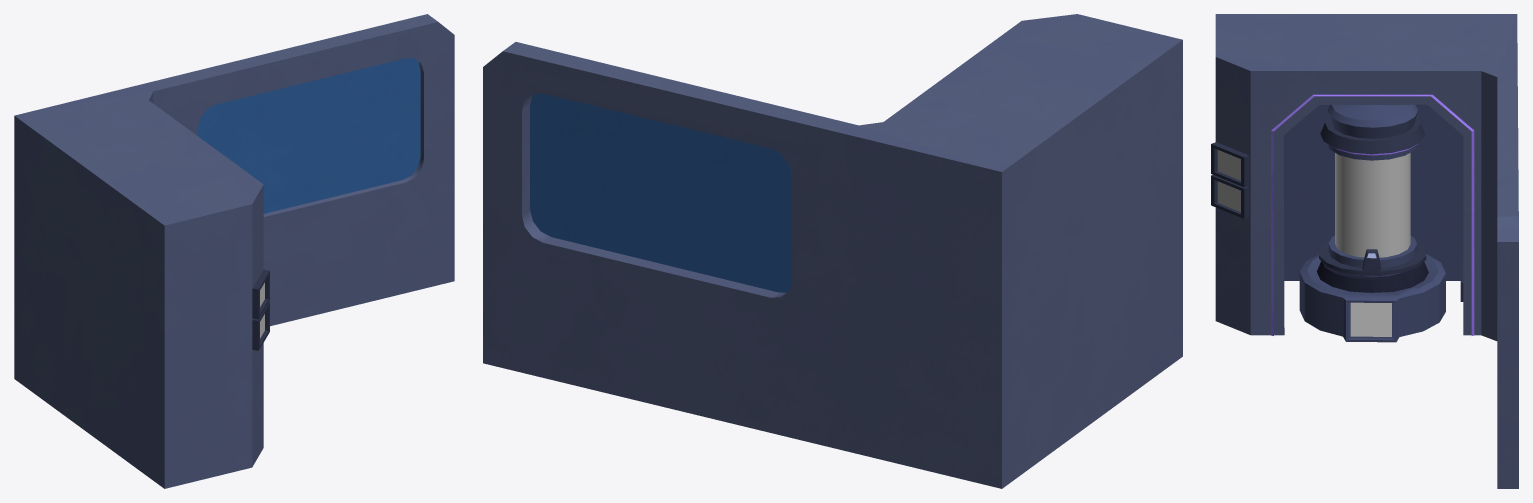
Rendered from incubator2.fbx.
3 views of the same model, side by side, from view 1: azimuth 30°, elevation 25°; view 2: azimuth 150°, elevation 25°; view 3: azimuth 270°, elevation 25° (orthographic). The views are drawn at different scales.
Parts seen in each view (by area): view 1: pasted__pasted__polySurface11, pPlane13, pasted__pasted__polySurface13, pasted__pasted__polySurface257; view 2: pasted__pasted__polySurface11, pPlane13; view 3: pasted__pasted__polySurface11, pasted__pasted__polySurface256, pasted__pasted__pasted__pCylinder1, pasted__pasted__pasted__pCylinder39, pasted__pasted__polySurface13, pasted__pasted__polySurface257.
Boxes of the visible parts, x1=… form: pasted__pasted__polySurface11: x1=14, y1=14, x2=454, y2=488; pPlane13: x1=198, y1=58, x2=420, y2=213; pasted__pasted__polySurface13: x1=252, y1=269, x2=269, y2=319; pasted__pasted__polySurface257: x1=252, y1=302, x2=269, y2=350; pasted__pasted__polySurface11: x1=483, y1=14, x2=1182, y2=488; pPlane13: x1=530, y1=93, x2=791, y2=292; pasted__pasted__polySurface11: x1=1215, y1=14, x2=1518, y2=488; pasted__pasted__polySurface256: x1=1299, y1=104, x2=1445, y2=342; pasted__pasted__pasted__pCylinder1: x1=1335, y1=153, x2=1410, y2=257; pasted__pasted__pasted__pCylinder39: x1=1271, y1=94, x2=1474, y2=335; pasted__pasted__polySurface13: x1=1211, y1=142, x2=1249, y2=187; pasted__pasted__polySurface257: x1=1211, y1=175, x2=1249, y2=218.
Bounding box in the file's own units: 125 × 74.42 × 77.35.
